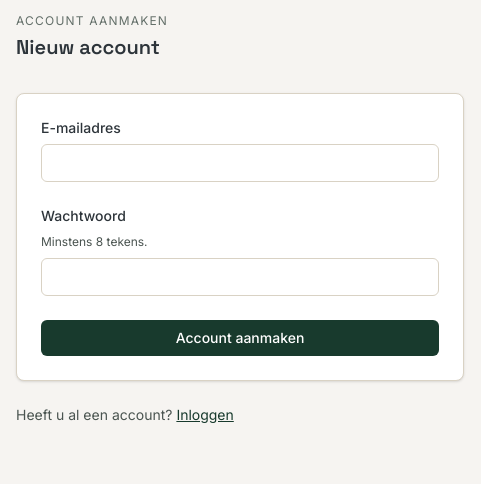
Test case: SignUpPage - golden: form filled in, submitted, redirect verified › shows an inline error and does not redirect when the password is too short
Type "golden-signup-short-pw@example.com" into the field labelled "E-mailadres" at (240,163), box [41,144,439,182]
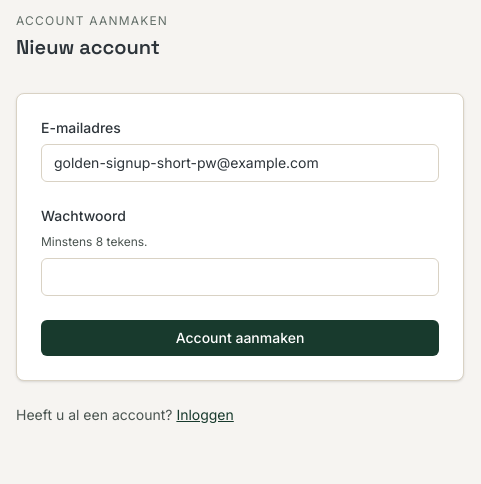
Type "kort" into the password field labelled "Wachtwoord" at (240,276), box [41,258,439,296]
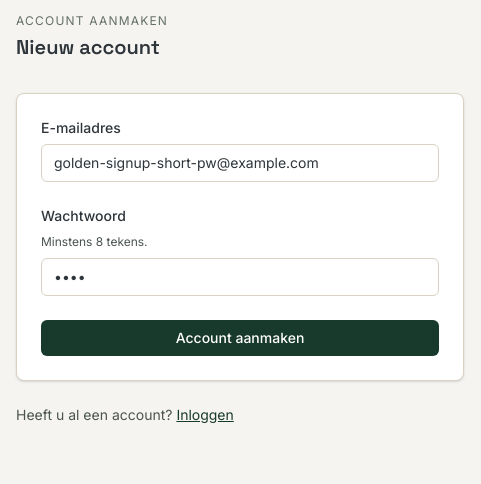
Click the button "Account aanmaken" at (240,338), box [41,320,439,356]
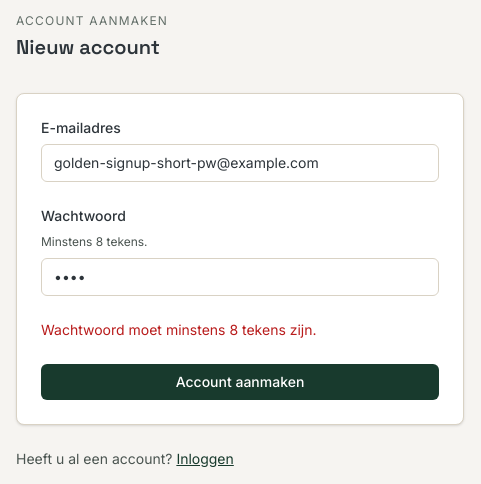
Now the message shows "minstens 8 tekens", box [41,320,317,338]
